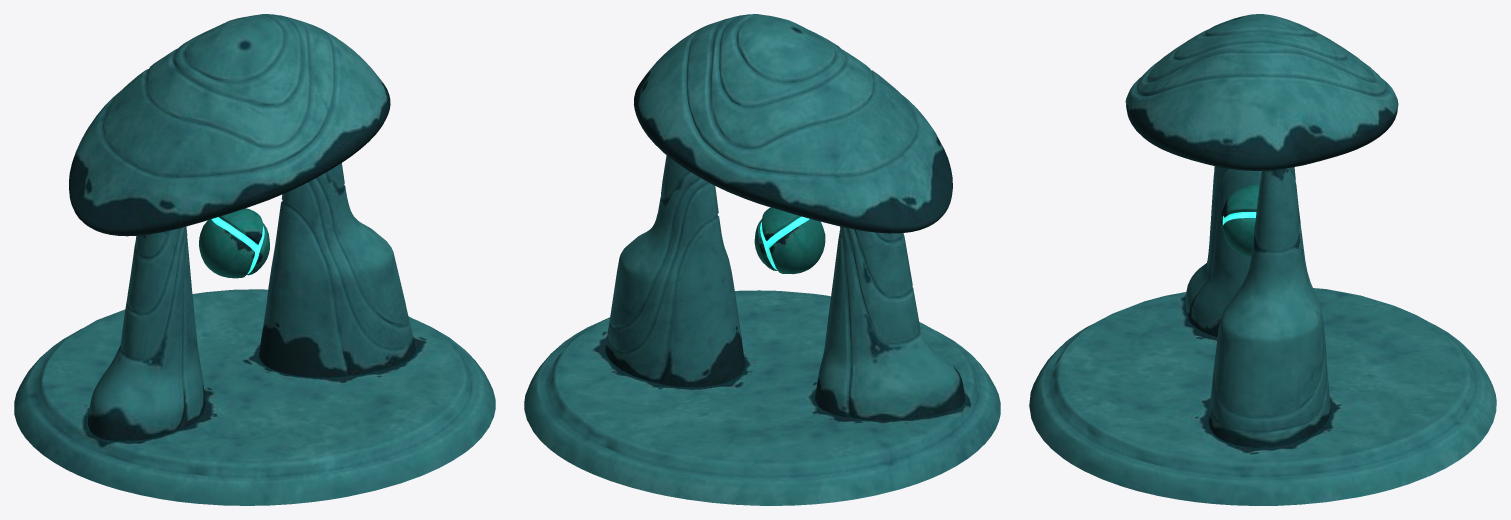
The model's file is sky_shrine_a_soma_v35.glb.
3 views of the same model, side by side, from view 1: azimuth 30°, elevation 25°; view 2: azimuth 150°, elevation 25°; view 3: azimuth 270°, elevation 25° (orthographic).
Parts seen in each view (by area): view 1: shrine_a; view 2: shrine_a; view 3: shrine_a.
Boxes of the visible parts, bbox=[...] form: shrine_a: bbox=[14, 14, 495, 505]; shrine_a: bbox=[524, 14, 1000, 505]; shrine_a: bbox=[1029, 14, 1496, 505].
Size of the model in its own units: 2.38 by 2.09 by 2.3.
Materials: 1 (1 with a texture image).
